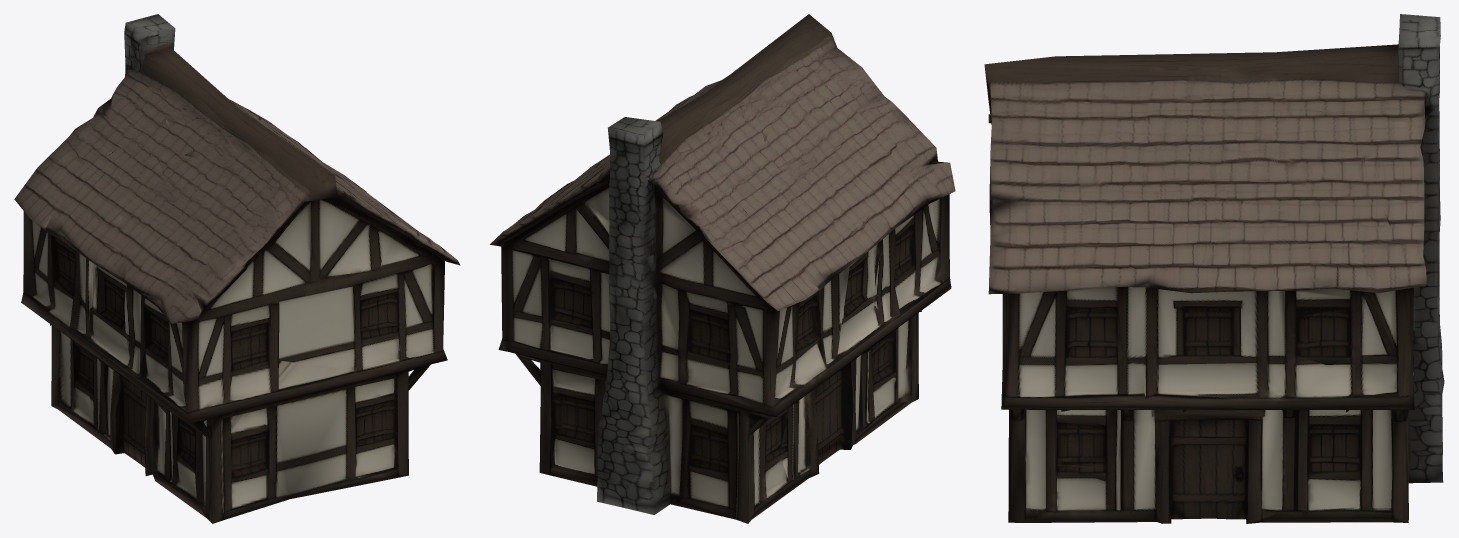
Rendered from medieval_house_b.fbx.
The picture shows the model from 3 angles, left to right: view 1: azimuth 30°, elevation 25°; view 2: azimuth 150°, elevation 25°; view 3: azimuth 270°, elevation 25°; orthographic projection. The views are drawn at different scales.
Parts seen in each view (by area): view 1: tripo_node_889cbe8f; view 2: tripo_node_889cbe8f; view 3: tripo_node_889cbe8f.
Part boxes in pixels (box(x1,y1,x2,y2)): tripo_node_889cbe8f: box(14, 14, 460, 523); tripo_node_889cbe8f: box(490, 14, 955, 523); tripo_node_889cbe8f: box(984, 14, 1444, 523).
Size of the model in its own units: 3.71 by 4.5 by 4.24.
1 material, 1 textured.
